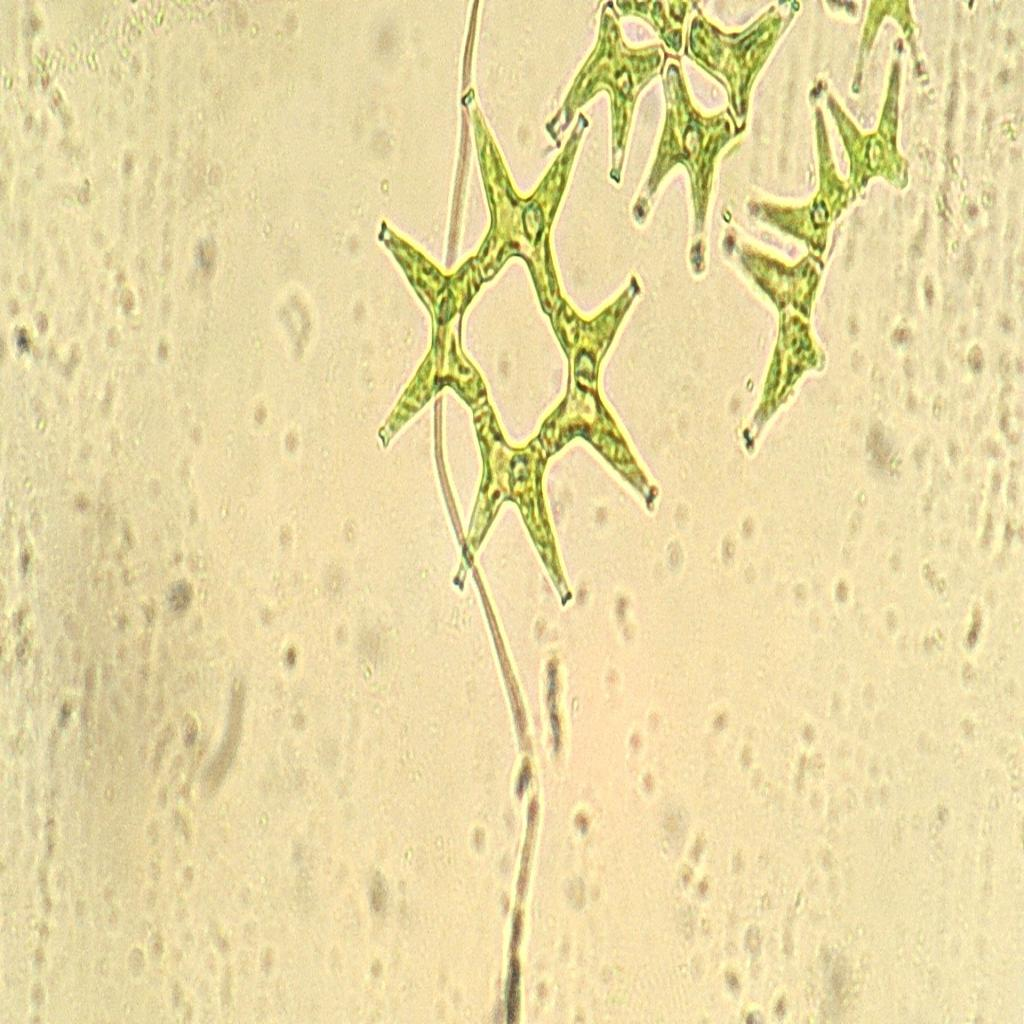Pediastrum_75O: (349, 66, 668, 628)
